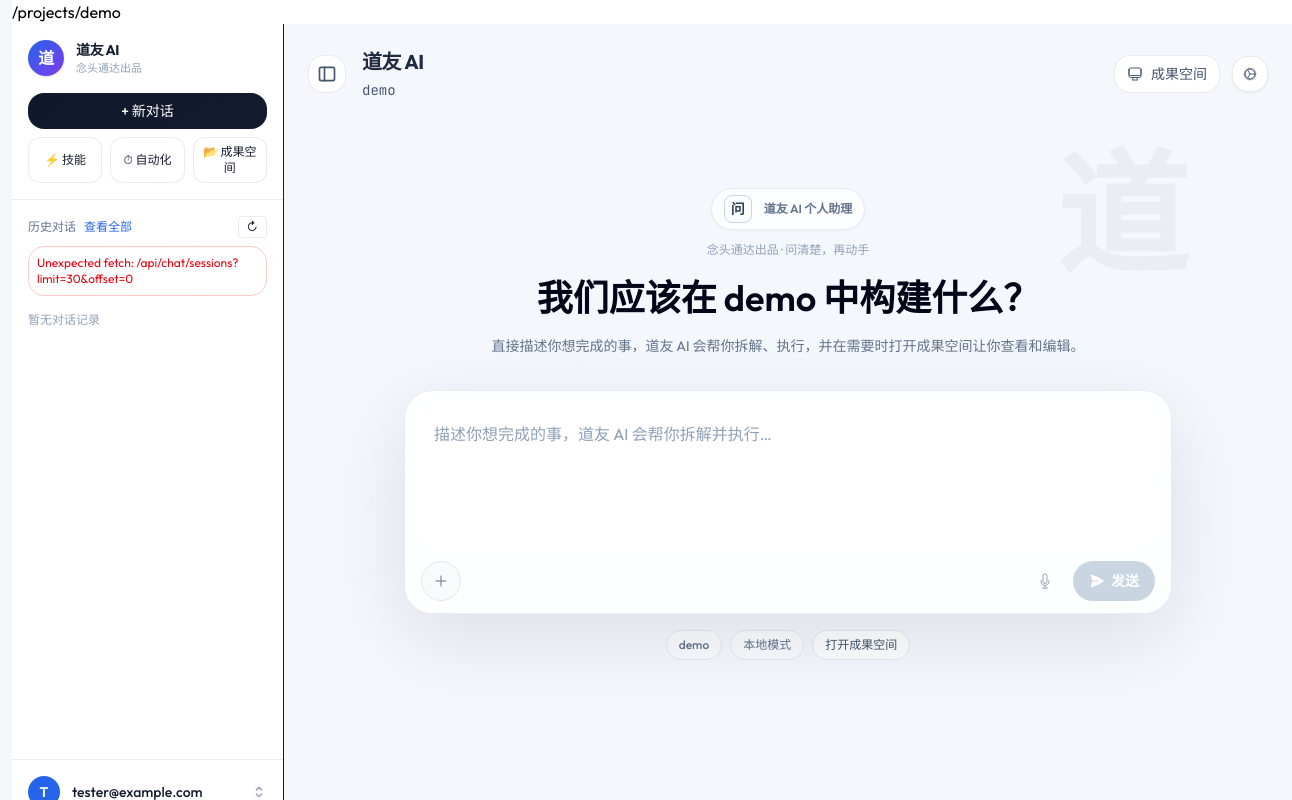
ChatPage workbench dock › does not pretend a pause succeeded when the active request has already ended
Type "做一个已经结束的任务" into the text box.
click(788, 475); type("做一个已经结束的任务")  # box [417, 403, 1159, 547]
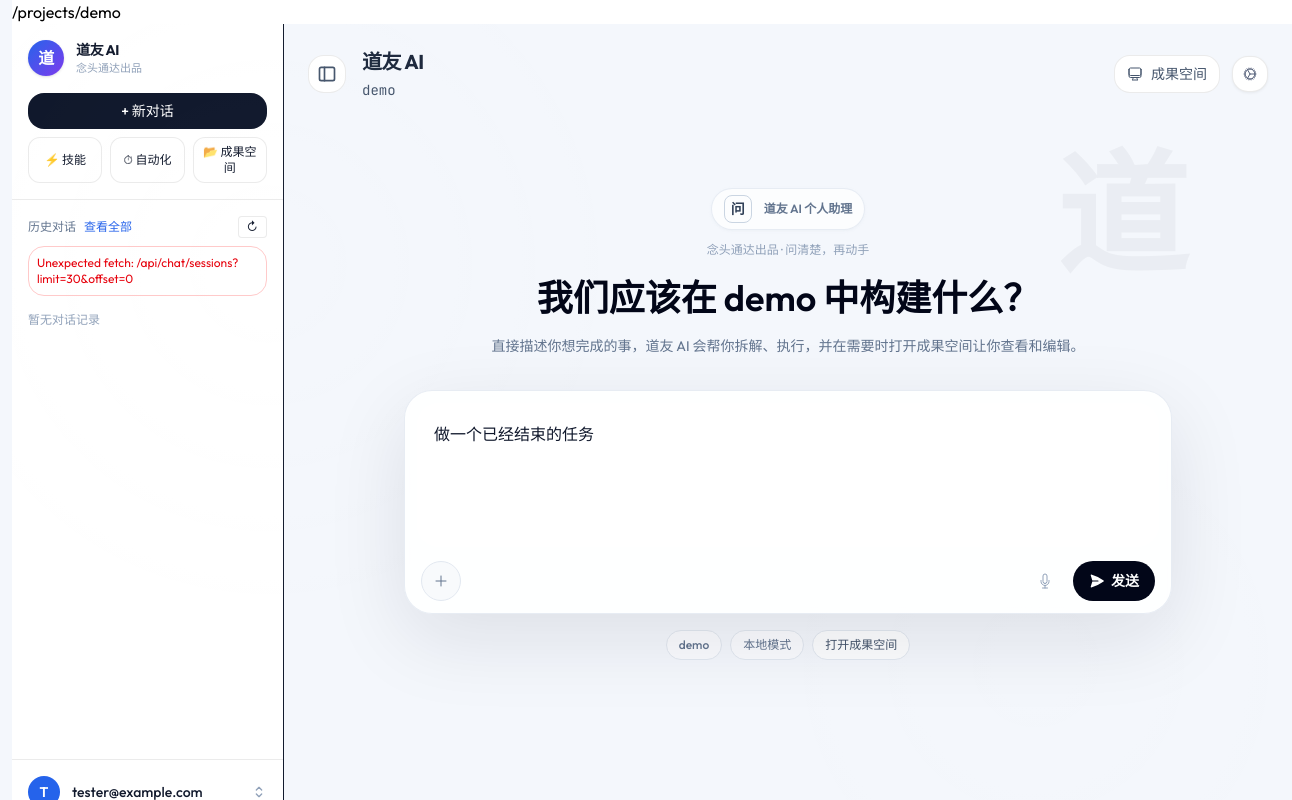
Click the button "发送".
click(1114, 581)  # box [1073, 561, 1155, 601]
(page scrolled)
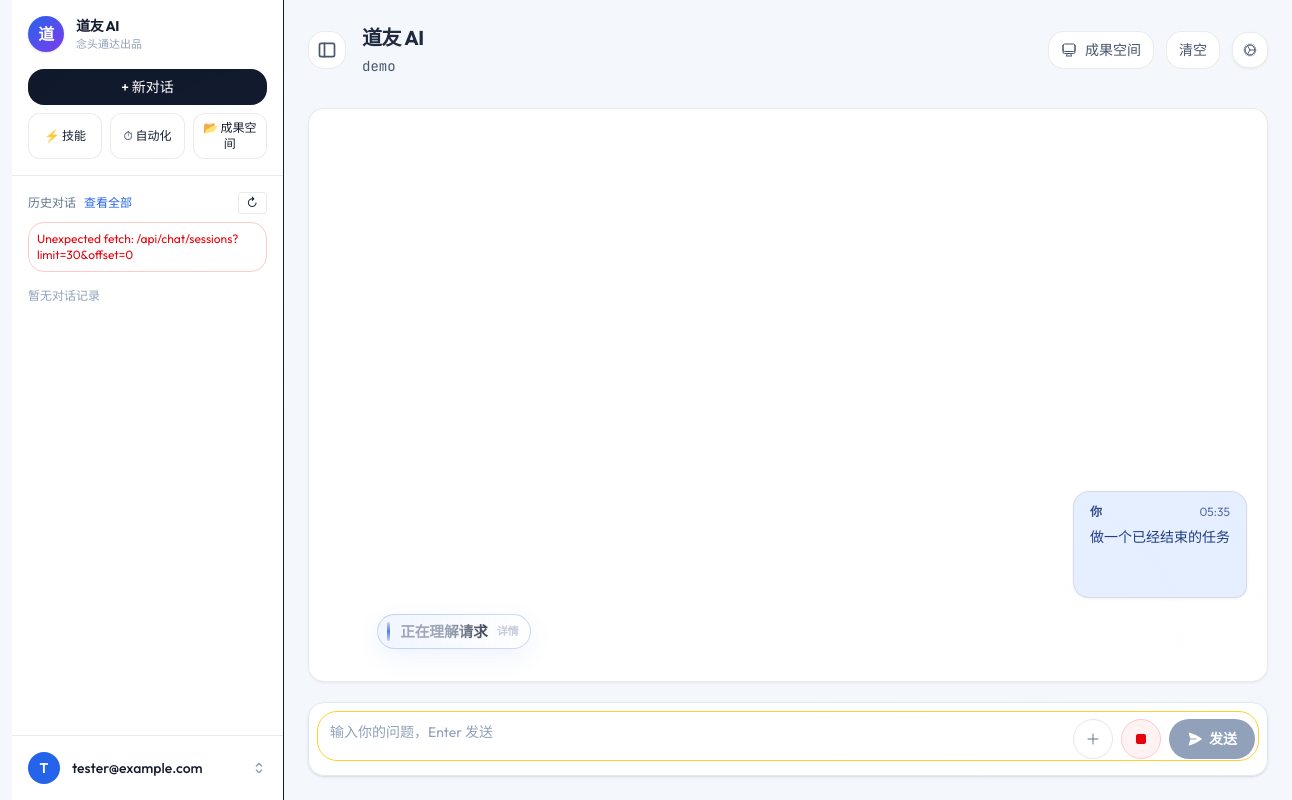
Click the button named "暂停这次任务".
click(1141, 739)  # box [1121, 719, 1161, 759]
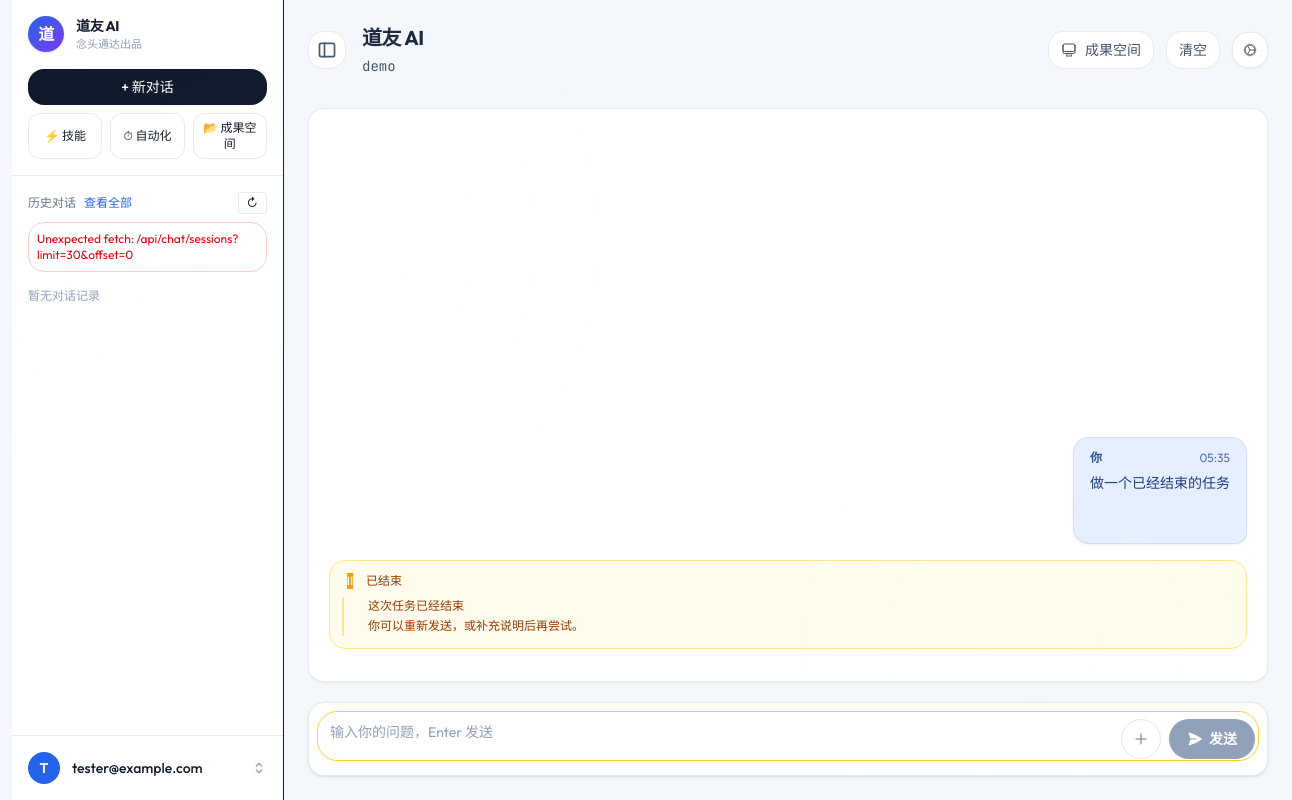
Result: the text "已结束" is shown at [366, 573, 402, 589]
Result: the text "这次任务已经结束 你可以重新发送，或补充说明后再尝试。" is shown at [342, 597, 1234, 636]
